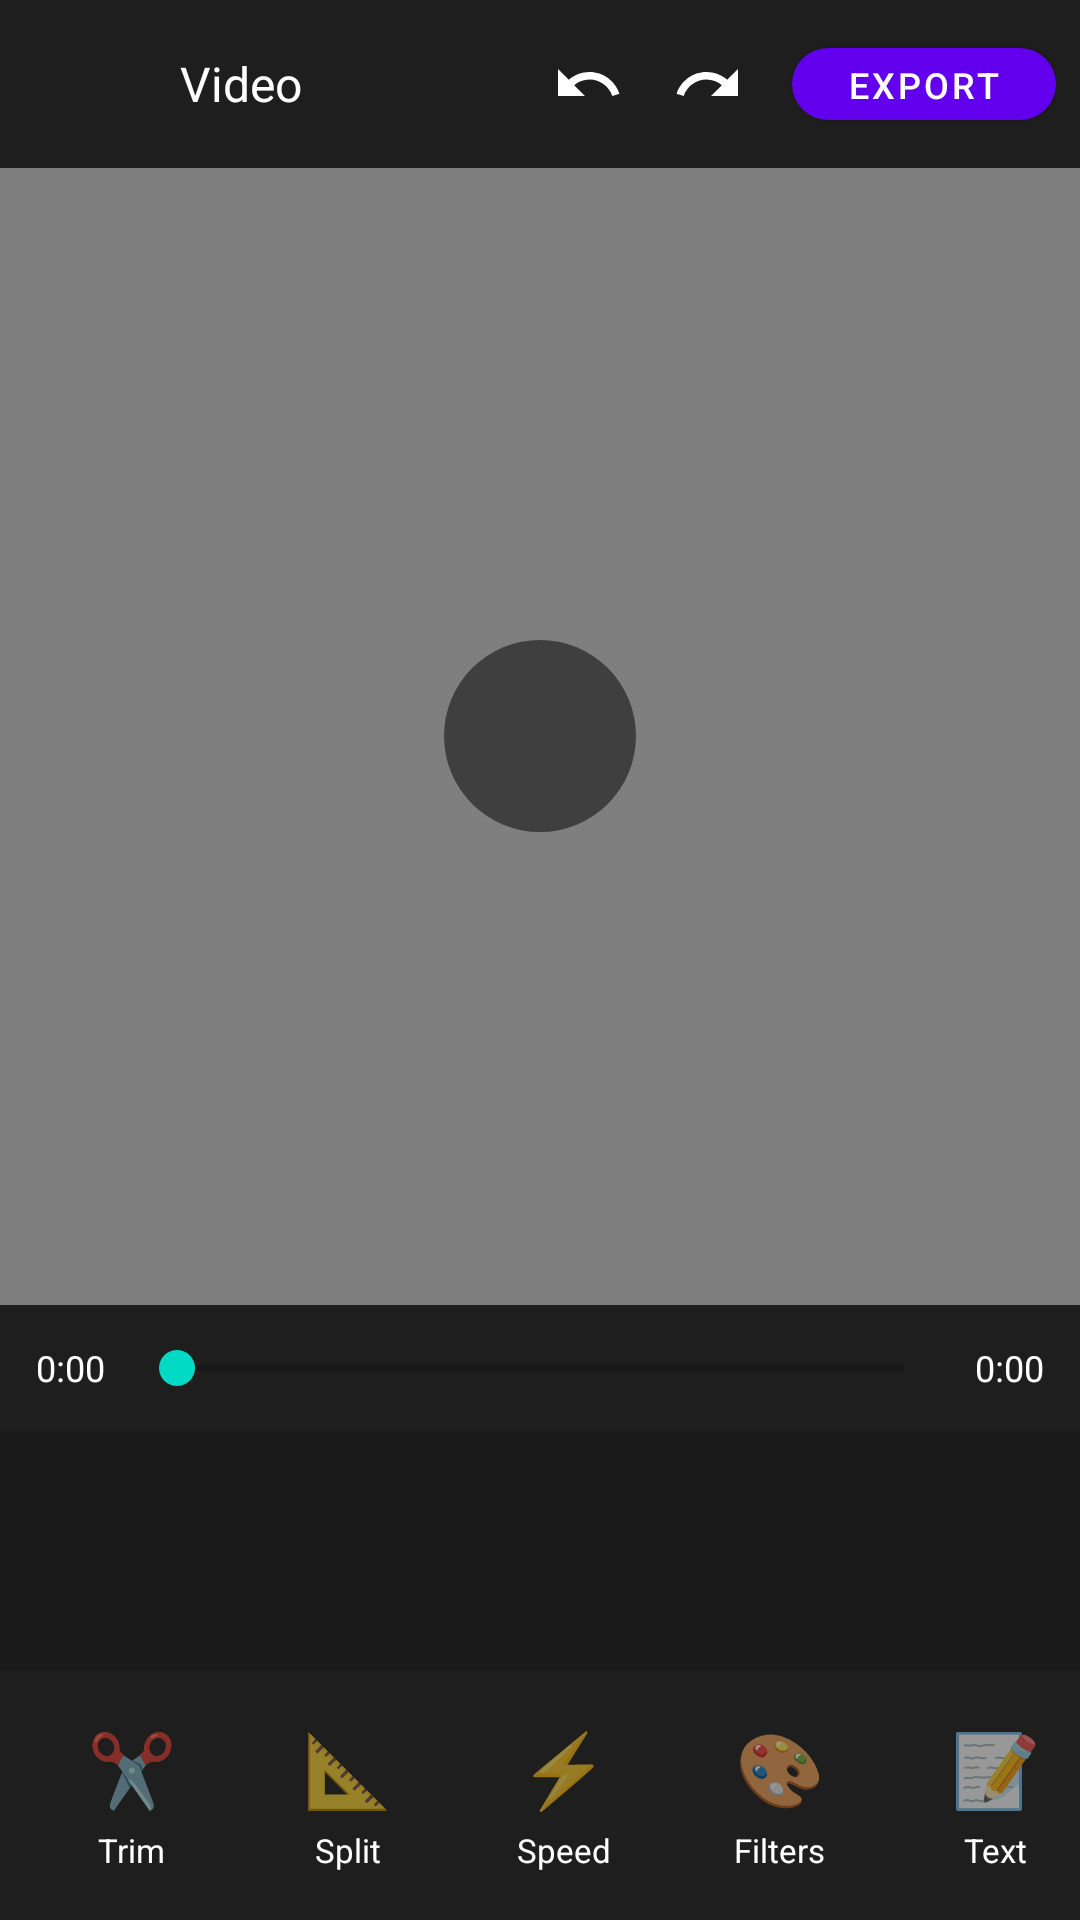

Screen size 1080 × 1920. Icon name, then its center in pixels as (x,y):
Redo: (707,82)
Undo: (589,82)
